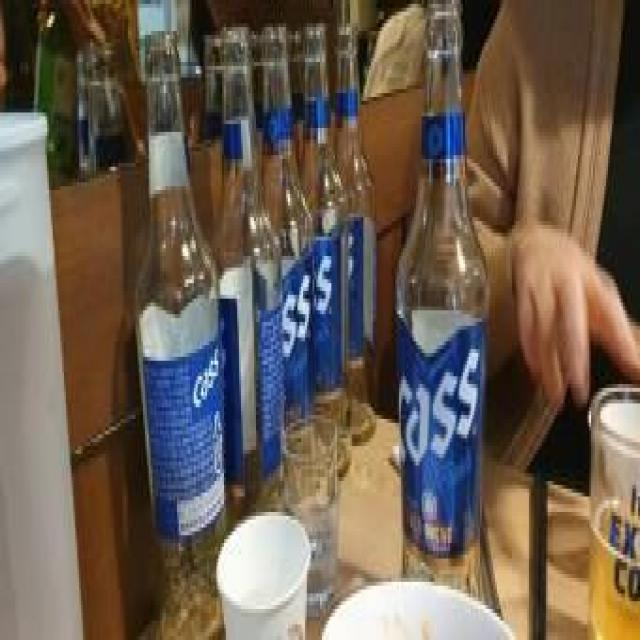beer-bottle: (127, 25, 233, 638), (394, 0, 489, 609), (223, 23, 287, 502), (295, 12, 349, 464), (330, 31, 383, 442), (256, 12, 312, 304)
